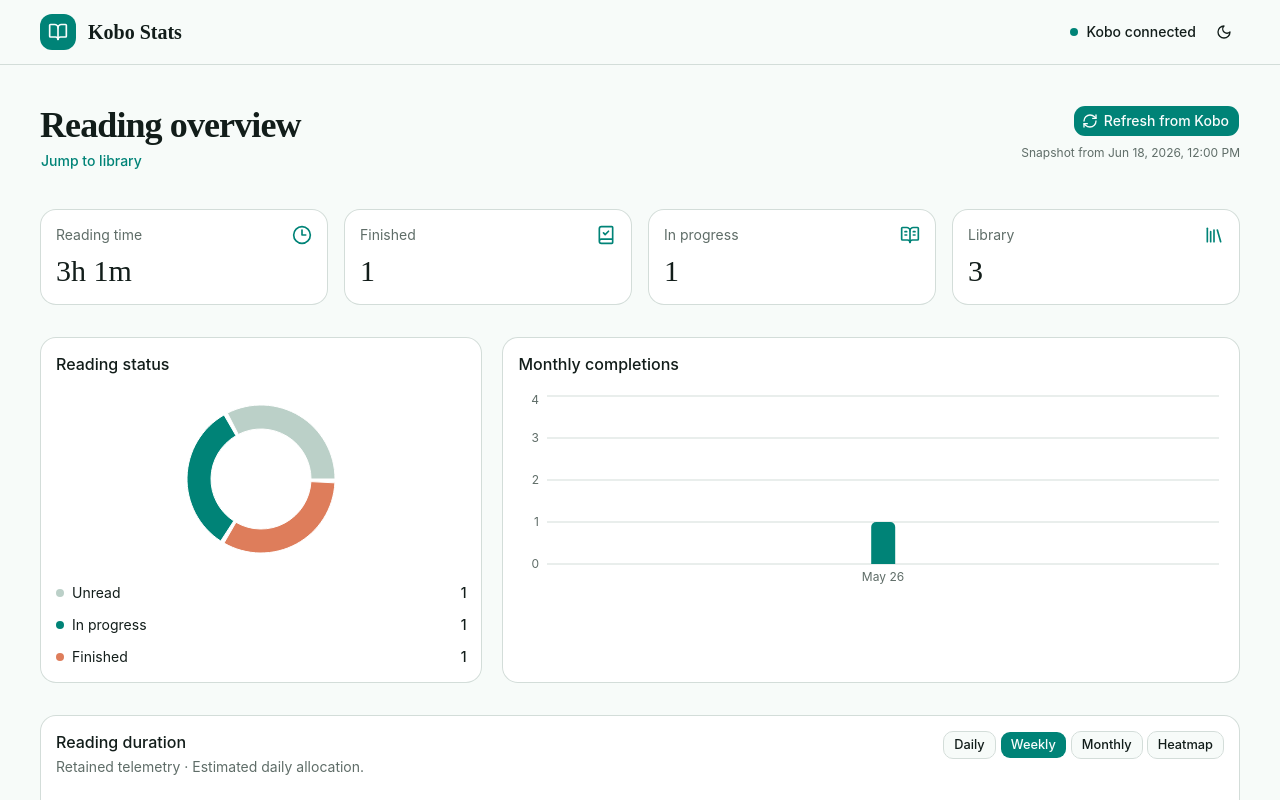
keeps showing the previous snapshot when an import is corrupted
The image size is (1280, 800).
Click the button "Refresh from Kobo": click(1156, 121) [1073,105,1240,137]
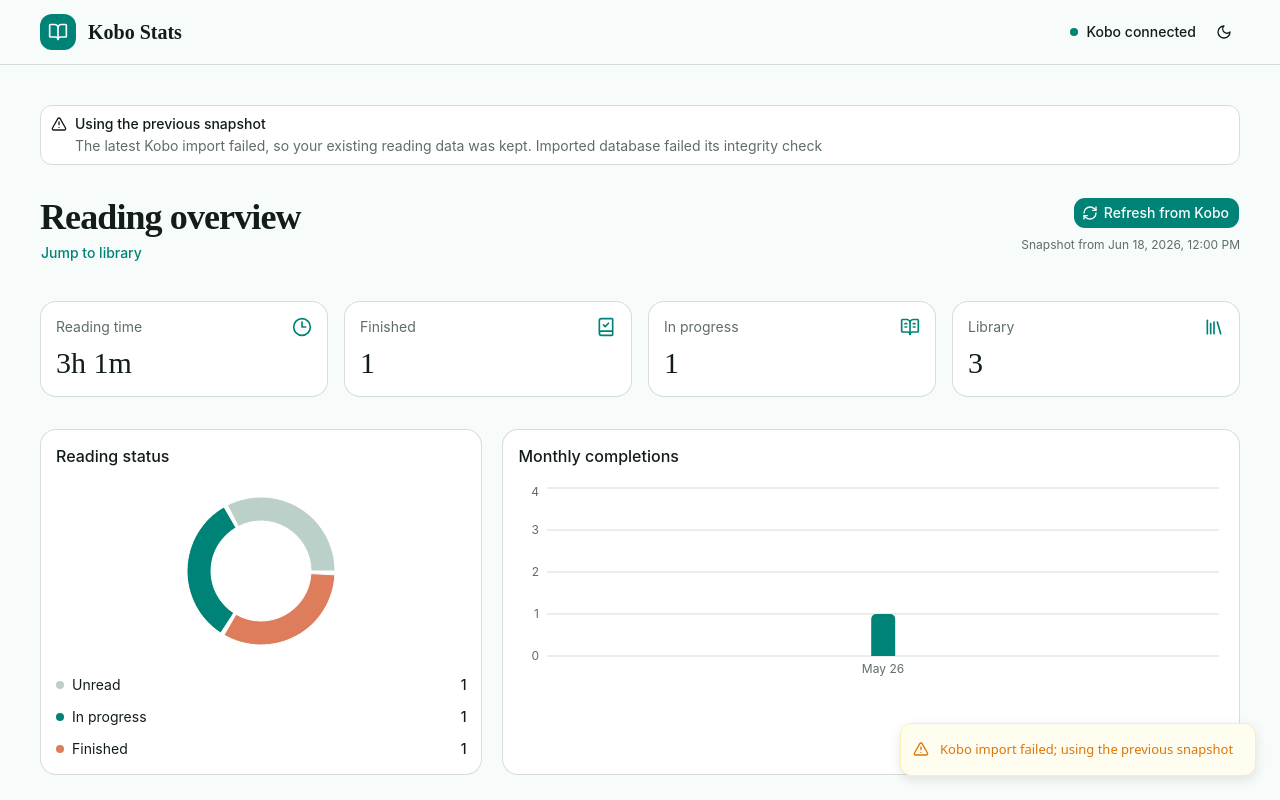
Expected: the heading "Reading overview" is shown, [40,197,301,237]
Expected: the text "Using the previous snapshot" is shown, [75,115,266,132]
Expected: the text "failed its integrity check" is shown, [536,137,822,154]
